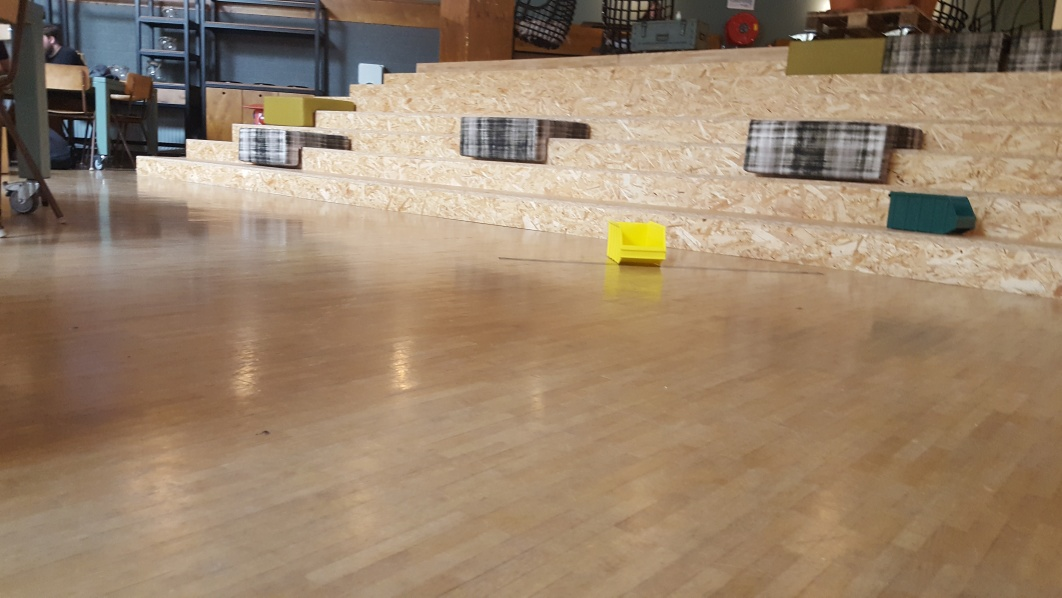tray: (884, 189, 980, 237), (599, 218, 668, 268)
